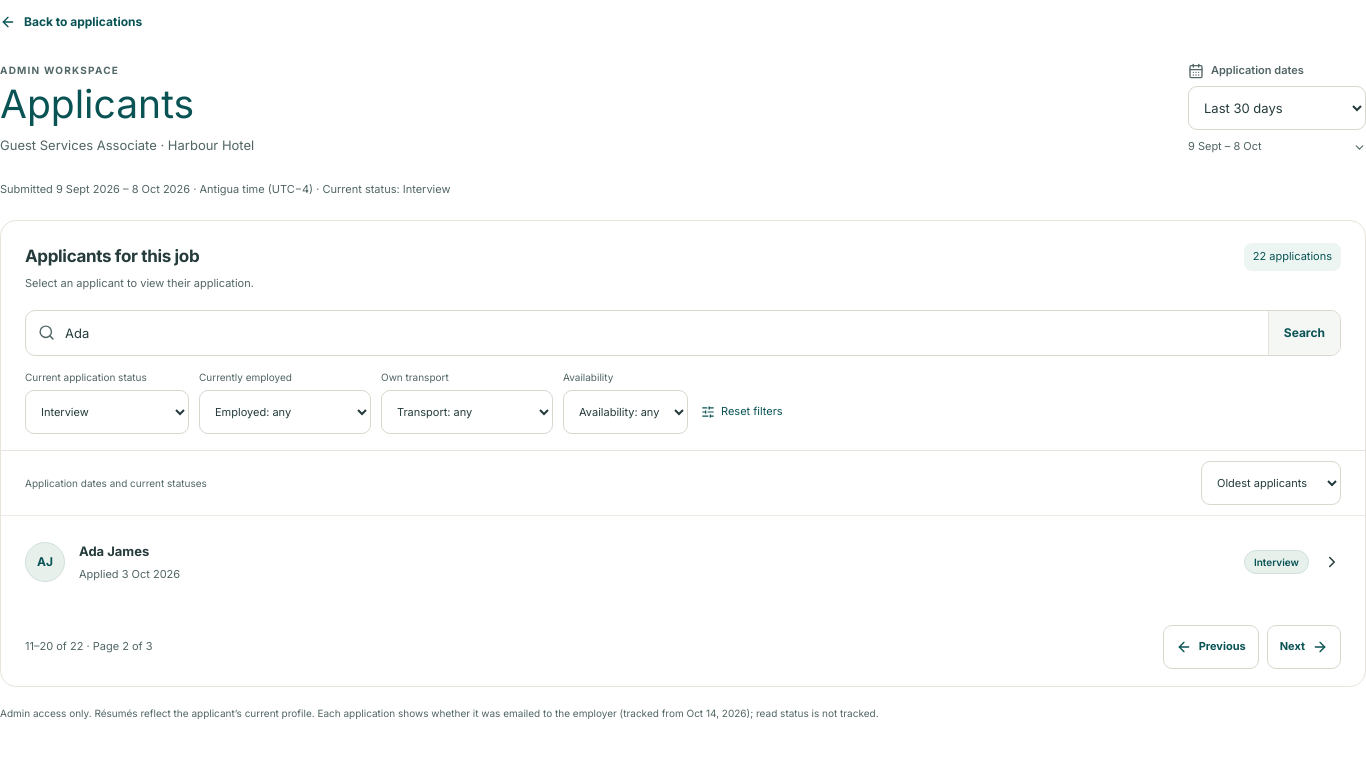
Test: Applications workspace URL state › opens and closes the selection query without refetching or replacing the applicant listing
This screenshot has width=1366, height=768.
Click the button with aria-label "View application from Ada James" at (45,562), box [1, 516, 1365, 608]
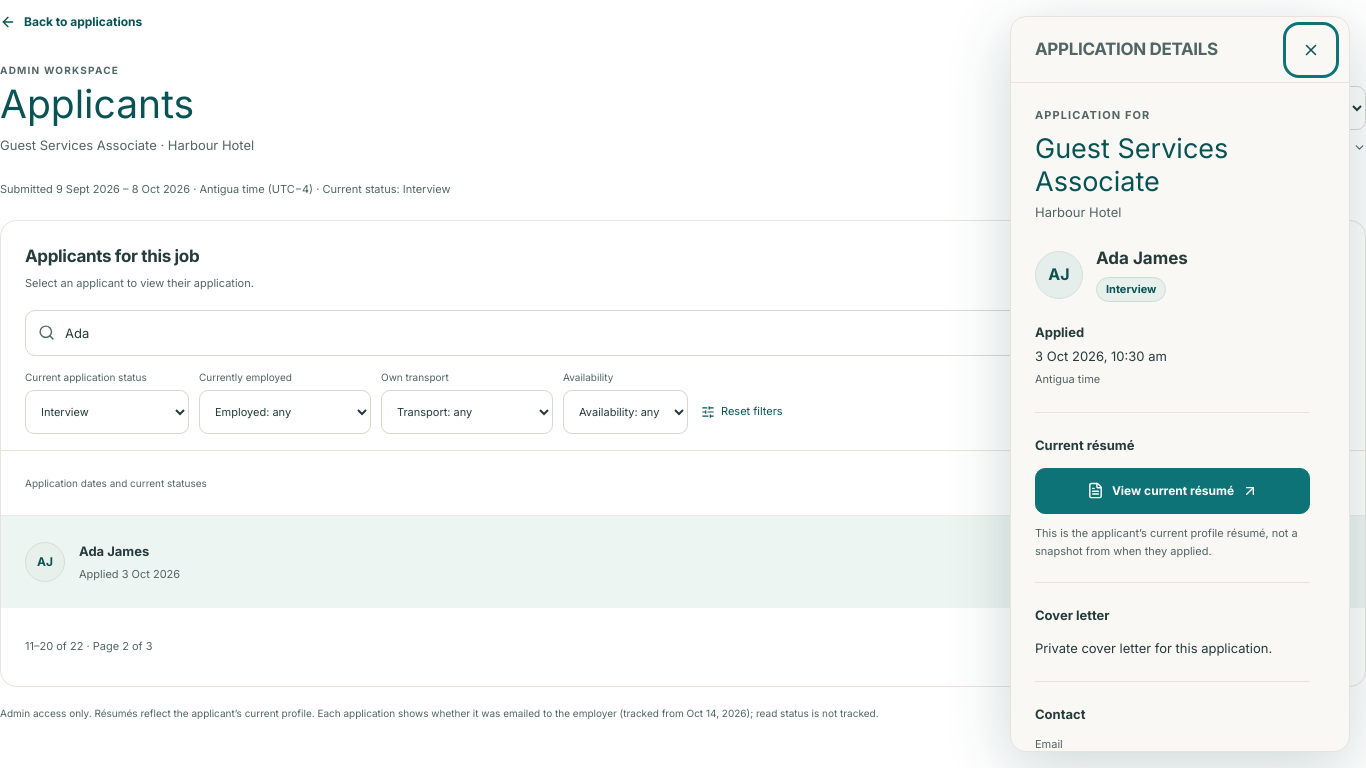
Expected: the dialog "Application details" is shown, [1010, 16, 1350, 752]
Click the button named "Close application details" at (1311,50), box [1289, 28, 1333, 72]
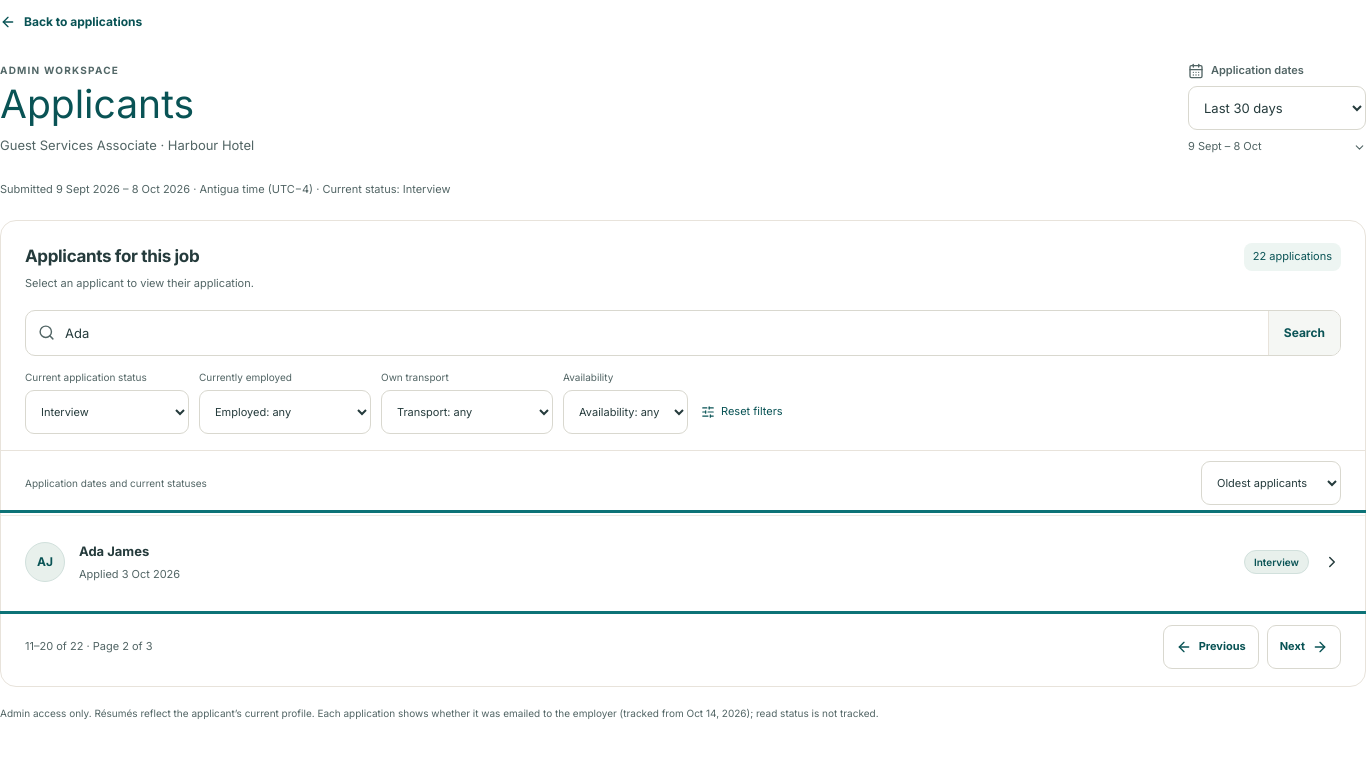
Expected: the dialog is gone
